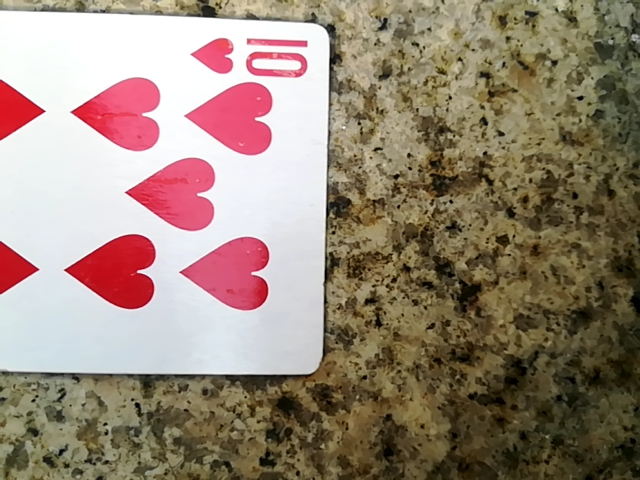hx 10: (4, 6, 323, 385)
